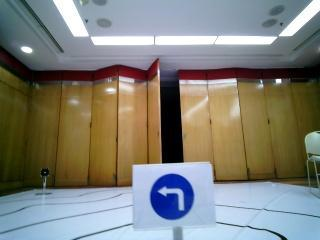left: (134, 167, 213, 221)
